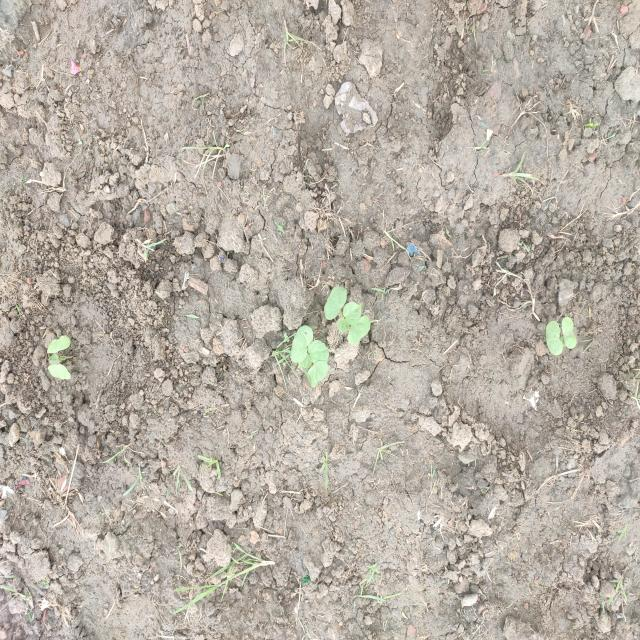seedling: (290, 325, 313, 363), (324, 286, 347, 320), (348, 316, 371, 345), (546, 321, 563, 355), (308, 360, 328, 387), (308, 340, 329, 363), (562, 317, 577, 349), (343, 302, 362, 325), (47, 336, 71, 354), (48, 364, 71, 380), (336, 317, 349, 334), (298, 353, 312, 368), (48, 353, 59, 365)
